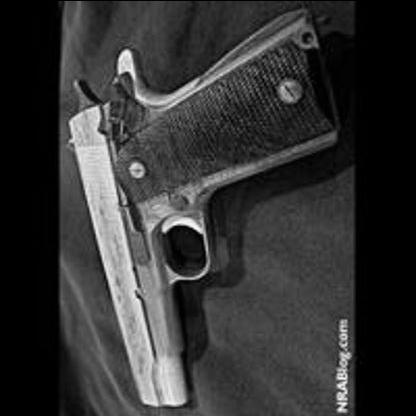weapon: (60, 6, 344, 409)
